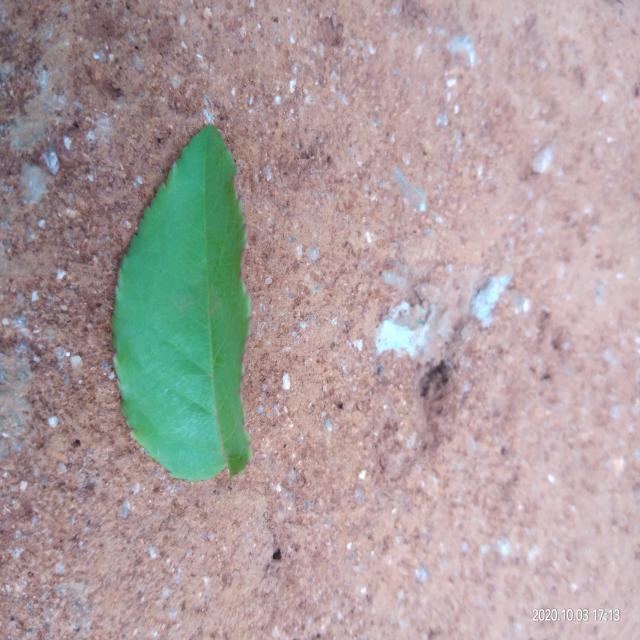rose: (112, 125, 251, 480)
